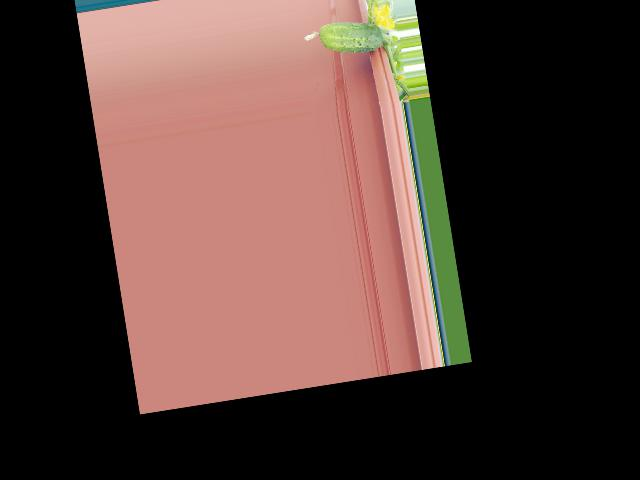cucumber: (302, 15, 385, 60)
